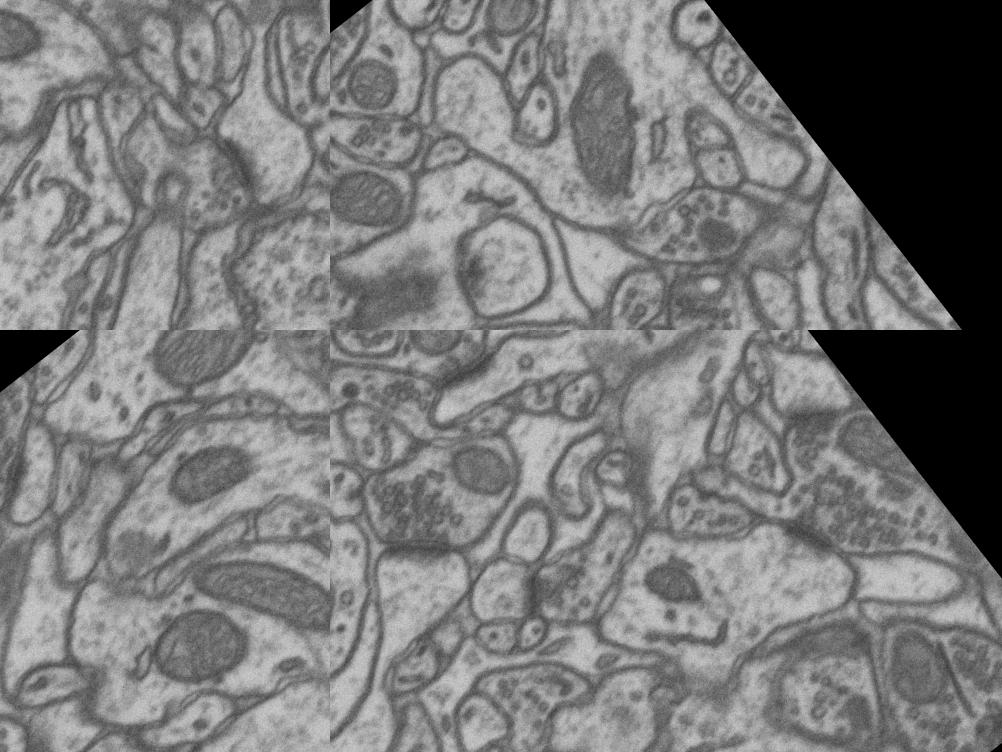mitochondria: (520, 46, 690, 222), (835, 404, 990, 589), (187, 502, 330, 689), (129, 572, 274, 716), (840, 590, 980, 733), (144, 417, 260, 529), (124, 330, 274, 414), (330, 136, 424, 254), (413, 408, 516, 513), (796, 659, 909, 752), (330, 31, 419, 129), (639, 546, 728, 638), (672, 186, 758, 273), (0, 0, 62, 106), (562, 330, 737, 365), (457, 0, 558, 57), (384, 330, 481, 379), (330, 528, 362, 675), (0, 390, 22, 470)
